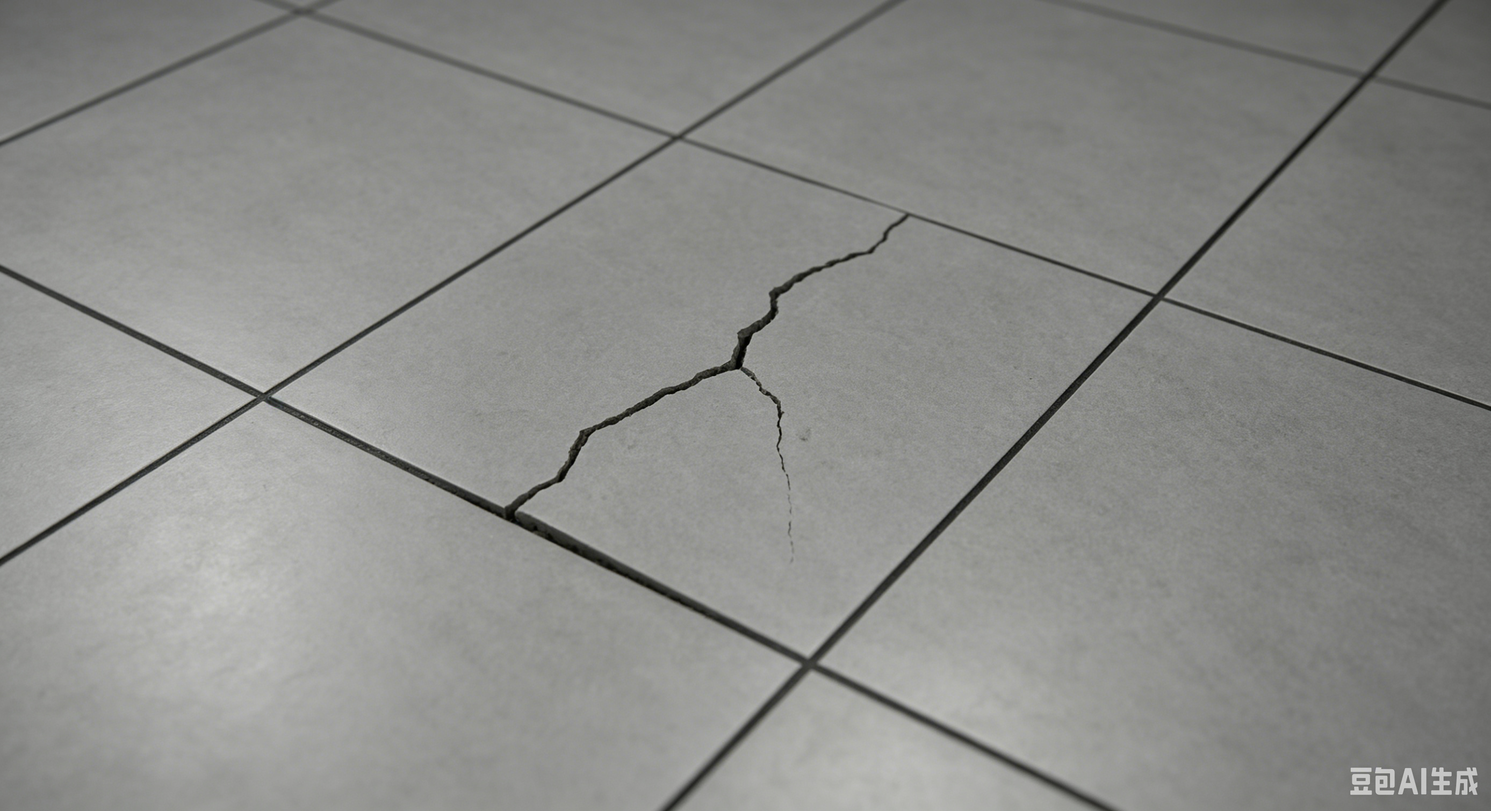floor_defect: (456, 413, 707, 555), (733, 372, 813, 561), (606, 354, 747, 414), (835, 207, 917, 278), (732, 288, 803, 356), (770, 247, 866, 286)
